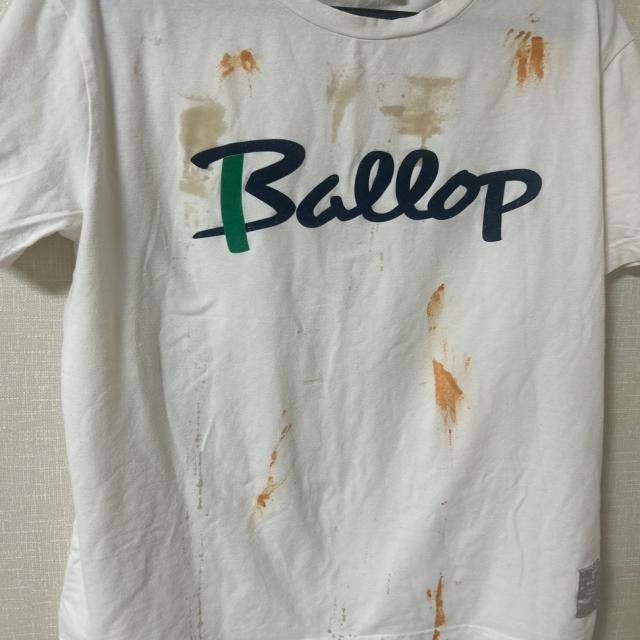stain: (426, 337, 485, 449), (169, 91, 222, 202), (386, 72, 449, 143), (498, 20, 562, 89), (259, 410, 290, 509), (185, 408, 210, 518), (316, 77, 362, 131), (418, 574, 455, 640), (185, 551, 211, 640), (216, 42, 270, 82), (422, 276, 454, 332), (366, 223, 390, 276), (326, 597, 346, 640), (437, 496, 455, 514)
